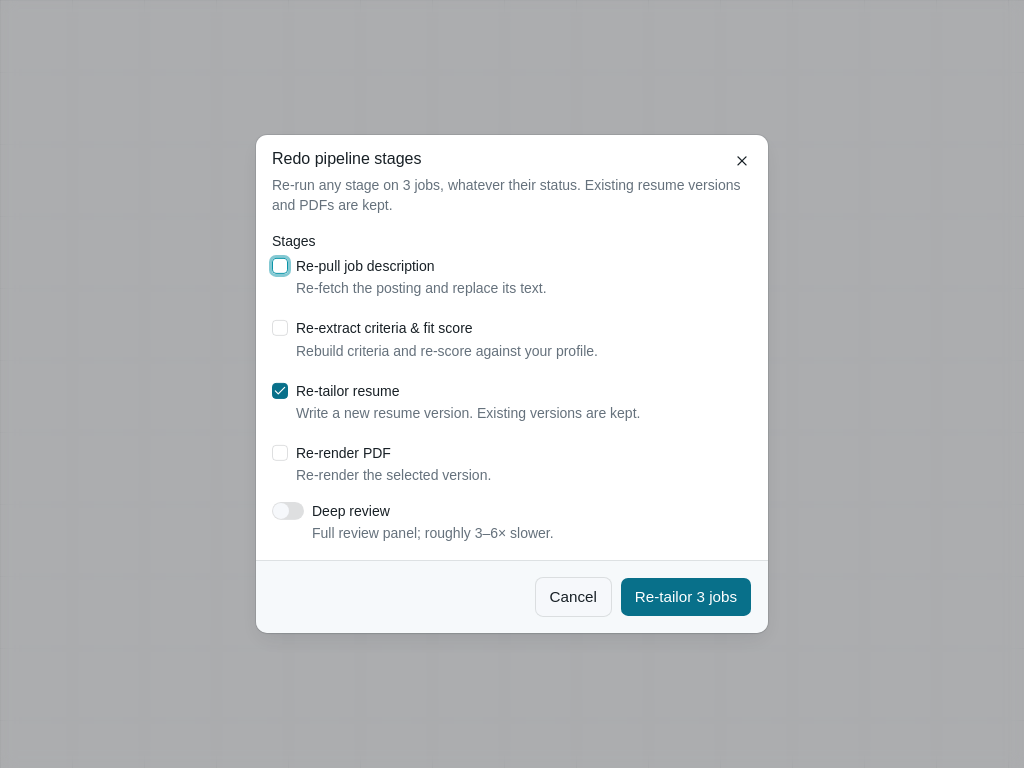
RedoDialog › disables launch when nothing is ticked
Click the checkbox named "re-tailor resume" next to "Re-tailor resume".
click(280, 390)  # box [272, 382, 288, 398]
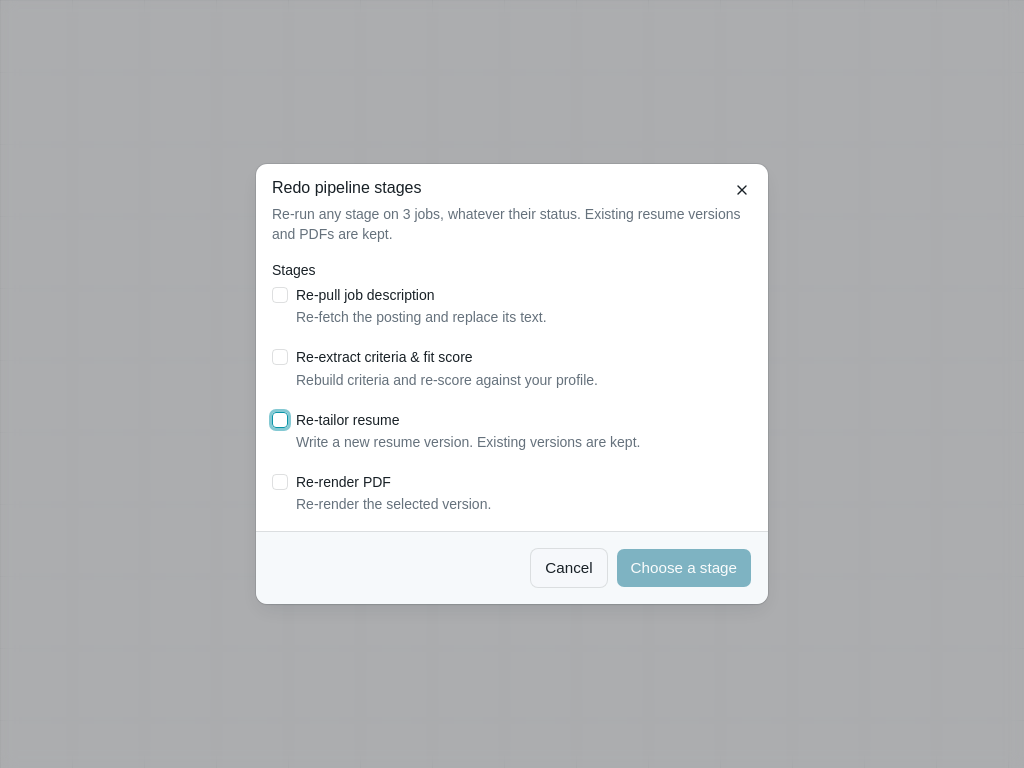
Now the button "Choose a stage" is disabled, box [616, 548, 752, 588]
